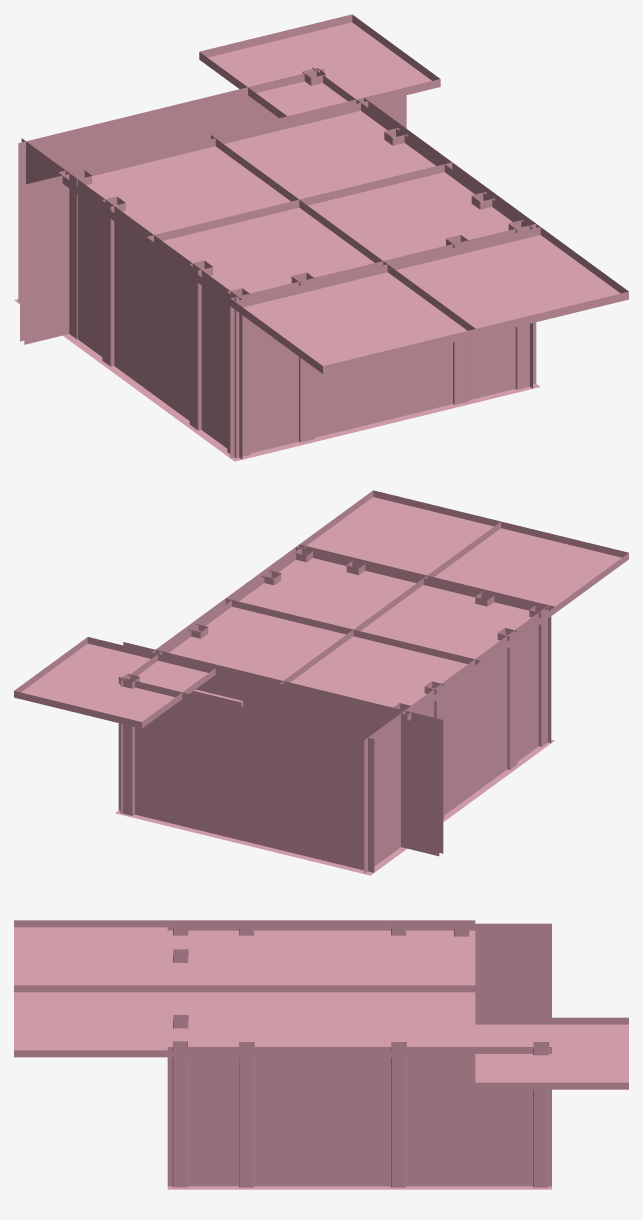
File: GarageBasementStructure.fbx
3 renders of one model, top to bottom at view 1: azimuth 30°, elevation 25°; view 2: azimuth 150°, elevation 25°; view 3: azimuth 270°, elevation 25°, orthographic. The views are drawn at different scales.
Visible parts, largest first — view 1: GarageBasementStructure; view 2: GarageBasementStructure; view 3: GarageBasementStructure.
Part boxes in pixels (x1=…): GarageBasementStructure: x1=14, y1=14, x2=628, y2=461; GarageBasementStructure: x1=14, y1=490, x2=628, y2=875; GarageBasementStructure: x1=14, y1=920, x2=628, y2=1189.
Bounding box in the file's own units: 1100 × 400 × 1600.
